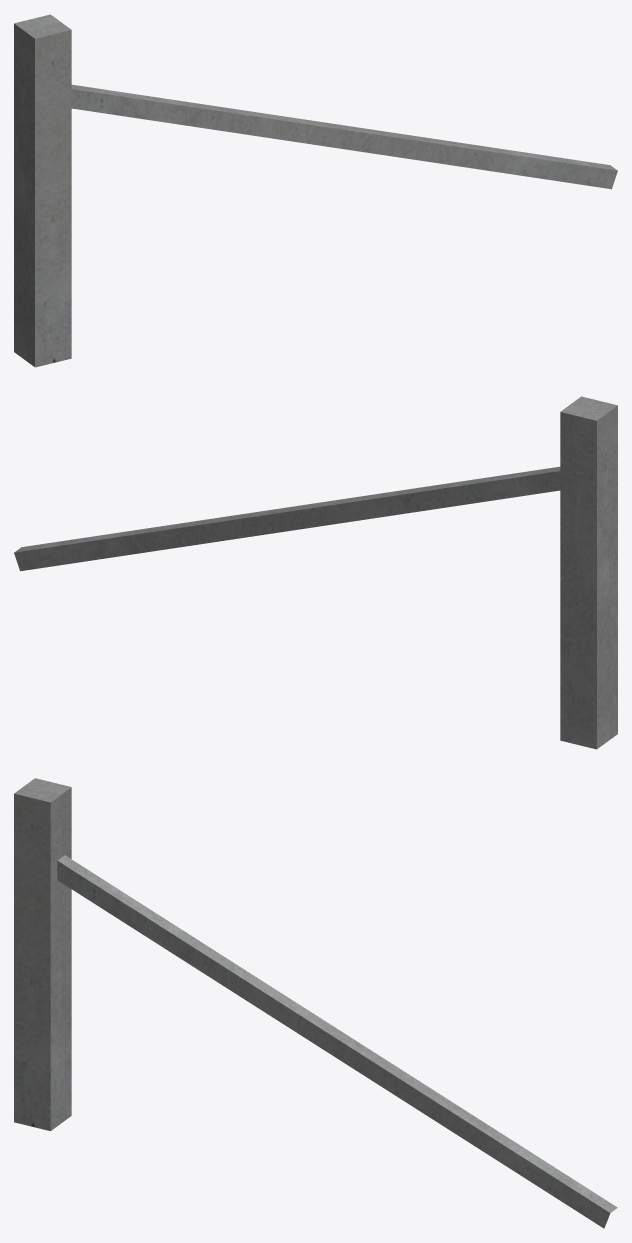
File: fence-corner-concrete-start-cbj_LOD00.gltf
3 views of the same model, one above another, from view 1: azimuth 30°, elevation 25°; view 2: azimuth 150°, elevation 25°; view 3: azimuth 330°, elevation 25° (orthographic).
Parts seen in each view (by area): view 1: fence; view 2: fence; view 3: fence.
Part boxes in pixels (left/top/right/bottom): fence: left=14, top=14, right=617, bottom=367; fence: left=14, top=396, right=617, bottom=749; fence: left=14, top=778, right=617, bottom=1228.
Size of what is drawn, in the model's own units: 3.38 by 1.8 by 0.21.
